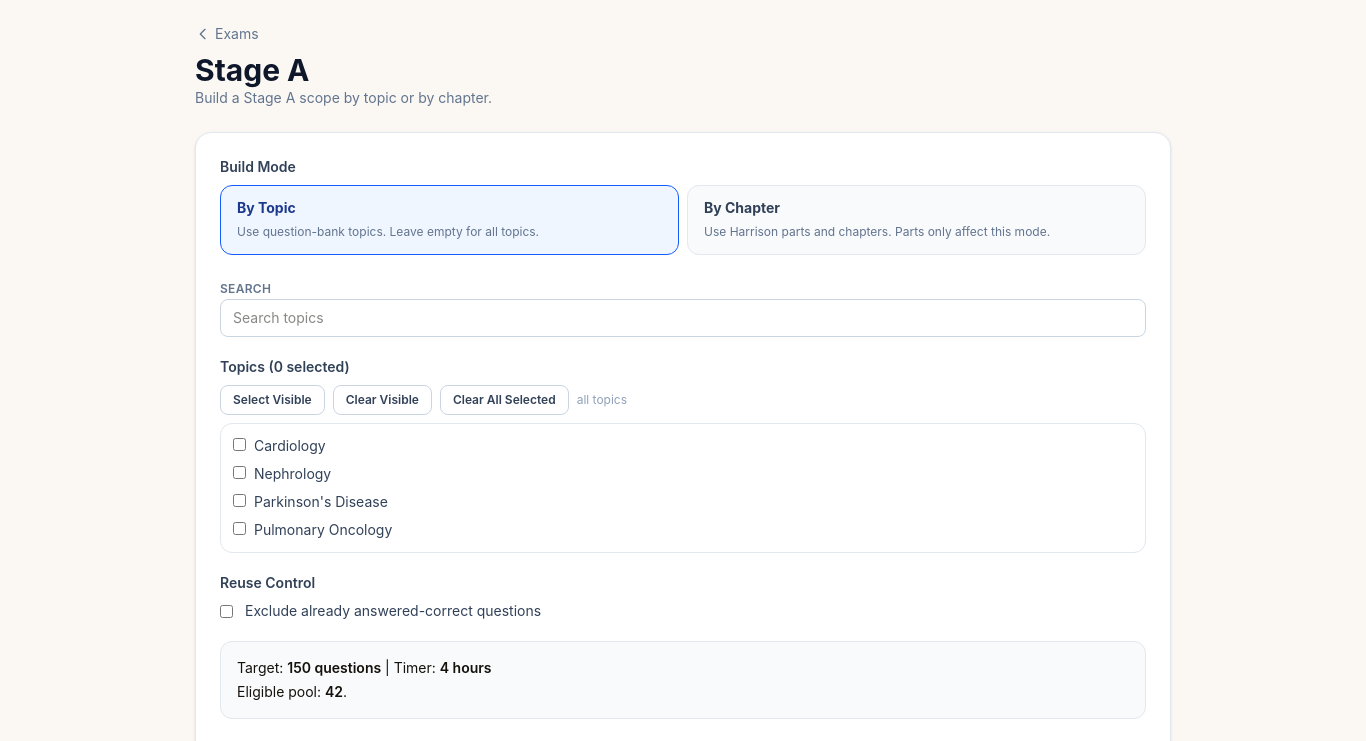
ExamsPage › separates topic scope from chapter scope
Expected: the button "By Topic" is shown, [220,185,679,255]
Expected: the text "Cardiology" is shown, [254,436,326,456]
Click the button "By Chapter". click: {"x": 742, "y": 208}
box: [687,185,1146,255]
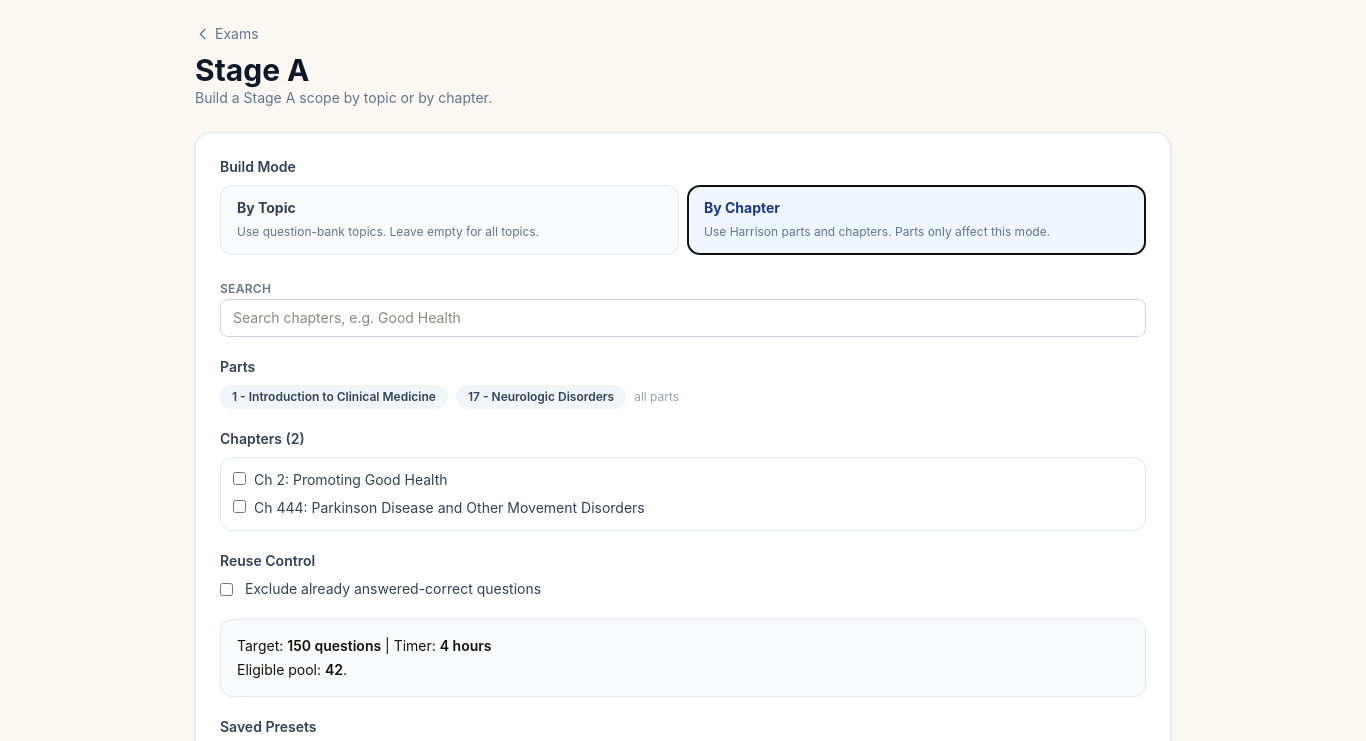
Expected: the button "1 - Introduction to Clinical Medicine" is shown, [220,385,448,409]
Expected: the text "Ch 2: Promoting Good Health" is shown, [254,470,448,490]
Expected: the text "Cardiology" is gone
